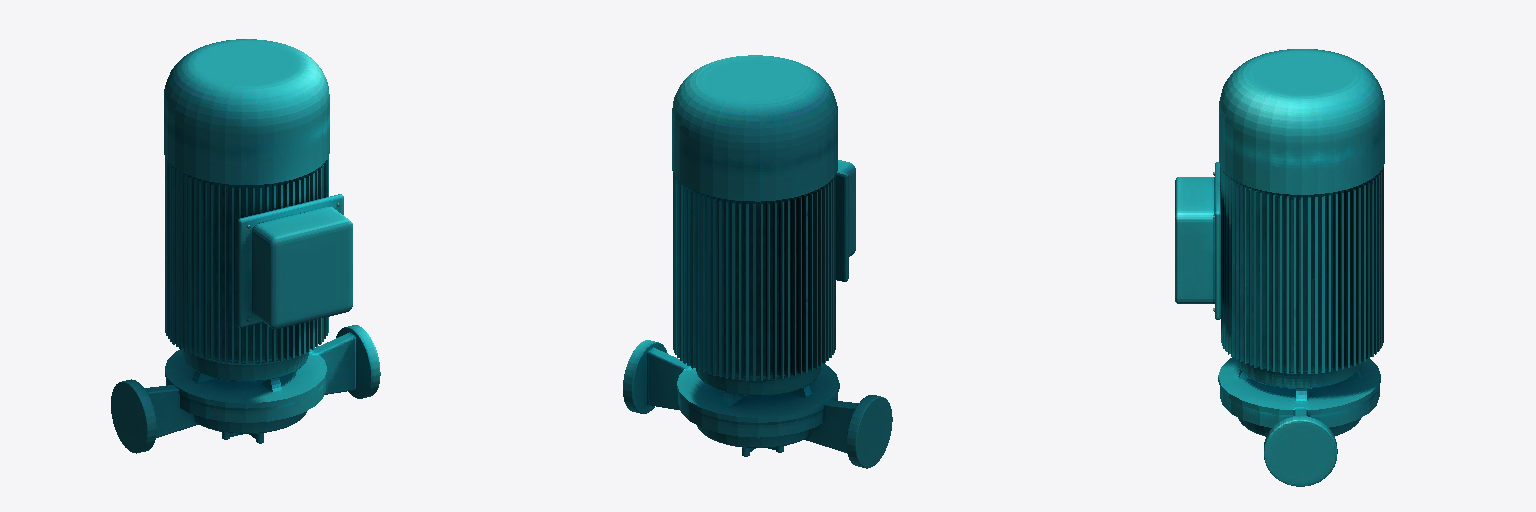
3 views of the same model, side by side, from view 1: azimuth 30°, elevation 25°; view 2: azimuth 150°, elevation 25°; view 3: azimuth 270°, elevation 25° (orthographic).
Visible parts, largest first — view 1: ChamferCyl18; view 2: ChamferCyl18; view 3: ChamferCyl18.
Boxes of the visible parts, <box> form: ChamferCyl18: <box>111,39,380,453</box>; ChamferCyl18: <box>623,55,892,468</box>; ChamferCyl18: <box>1175,49,1384,486</box>.
Size of the model in its own units: 30.42 by 45.68 by 23.79.
Materials: 1 (1 with a texture image).